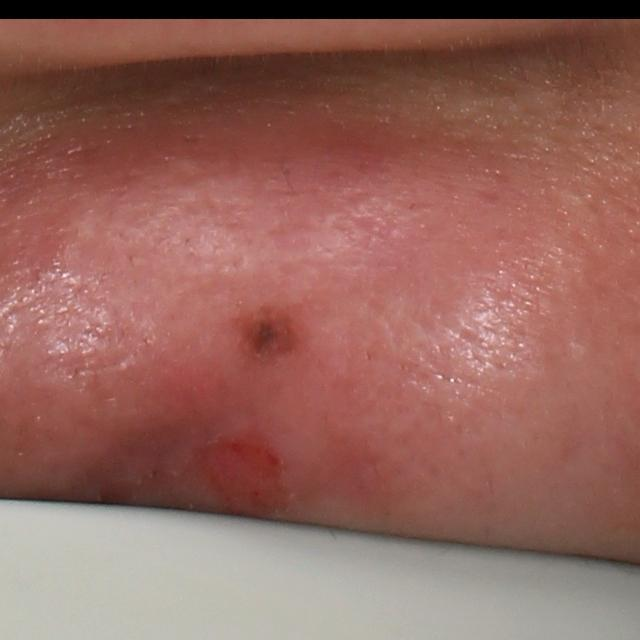nevus: (231, 305, 305, 366)
